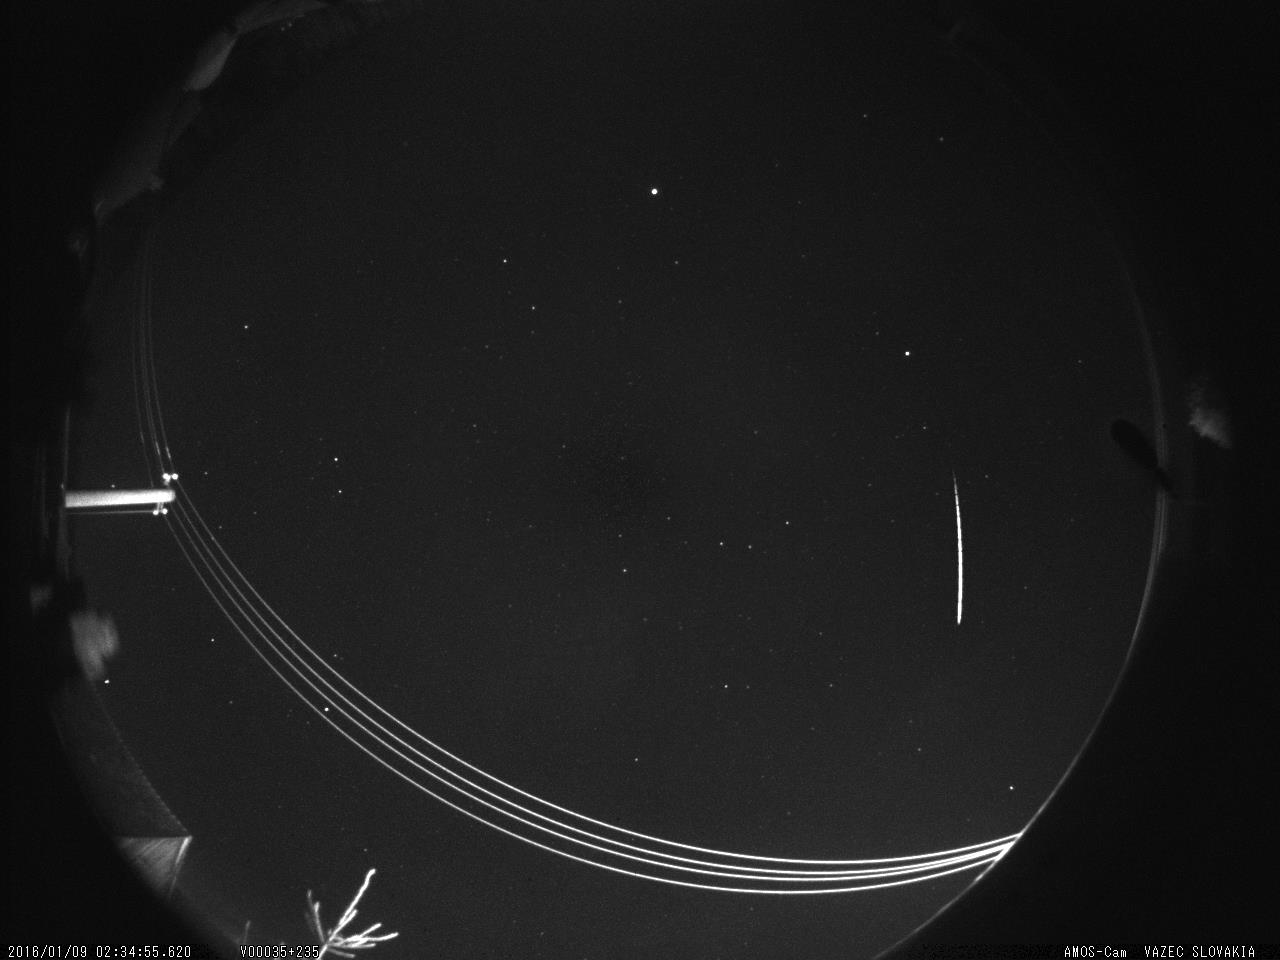meteor: (910, 436, 997, 663)
